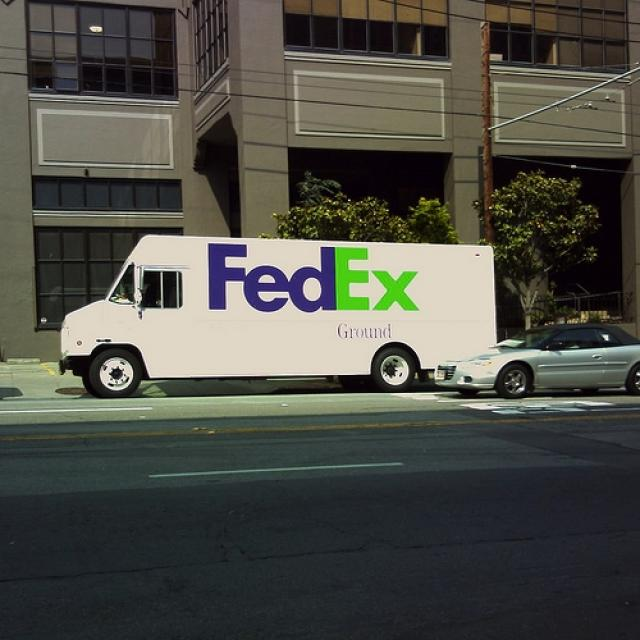fedex: (206, 242, 426, 313)
